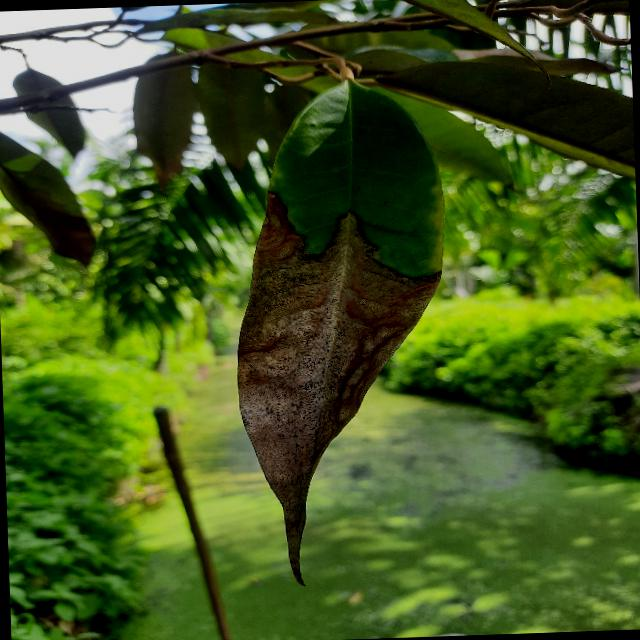Leaf Blight: (214, 72, 476, 600)
